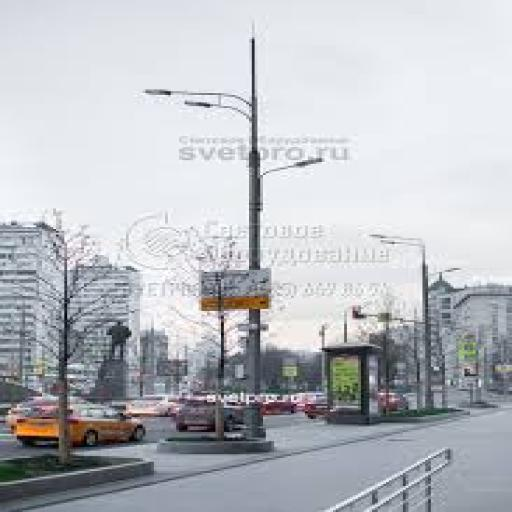Light-pole: (162, 24, 309, 449), (366, 224, 461, 417)
